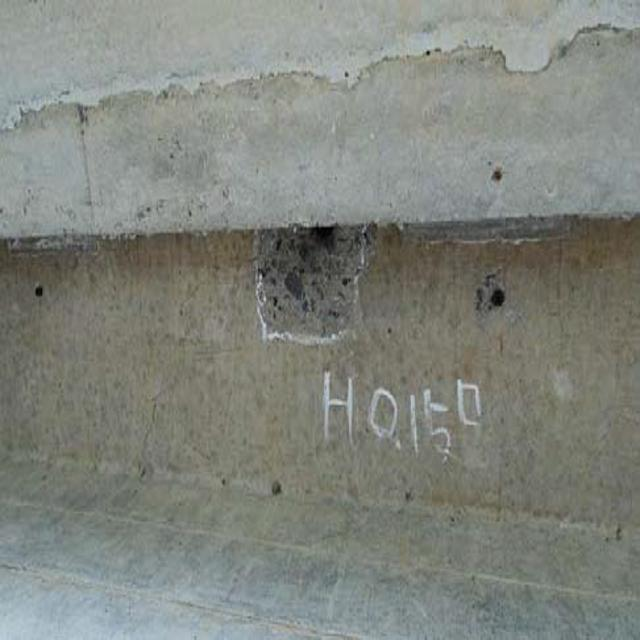spalling: (246, 190, 380, 380), (458, 247, 533, 337)
